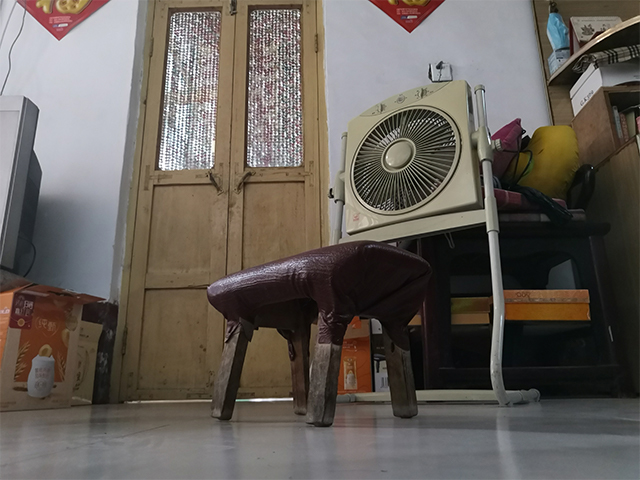stool: (401, 161, 639, 403), (204, 238, 436, 429)
